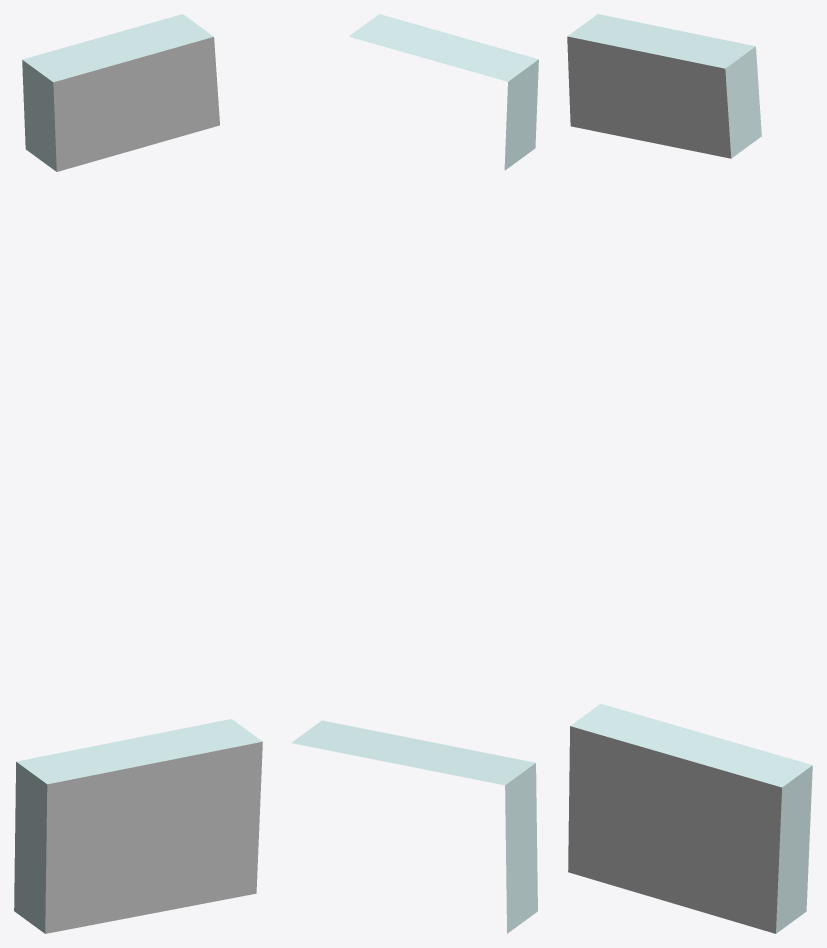
3 views of the same model, side by side, from view 1: azimuth 30°, elevation 25°; view 2: azimuth 150°, elevation 25°; view 3: azimuth 330°, elevation 25° (orthographic).
Parts seen in each view (by area): view 1: 0_1_0_1_2_1_2_2_2; view 2: 0_1_0_1_2_1_2_2_2; view 3: 0_1_0_1_2_1_2_2_2.
Boxes of the visible parts, left/top/right/bottom form: 0_1_0_1_2_1_2_2_2: left=14, top=14, right=262, bottom=933; 0_1_0_1_2_1_2_2_2: left=291, top=14, right=538, bottom=933; 0_1_0_1_2_1_2_2_2: left=567, top=14, right=812, bottom=933.
Bounding box in the file's own units: 12.1 × 46.31 × 3.43.
